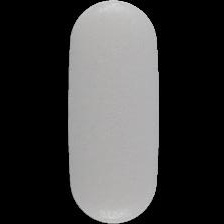61786-815: (0, 0, 224, 224)
